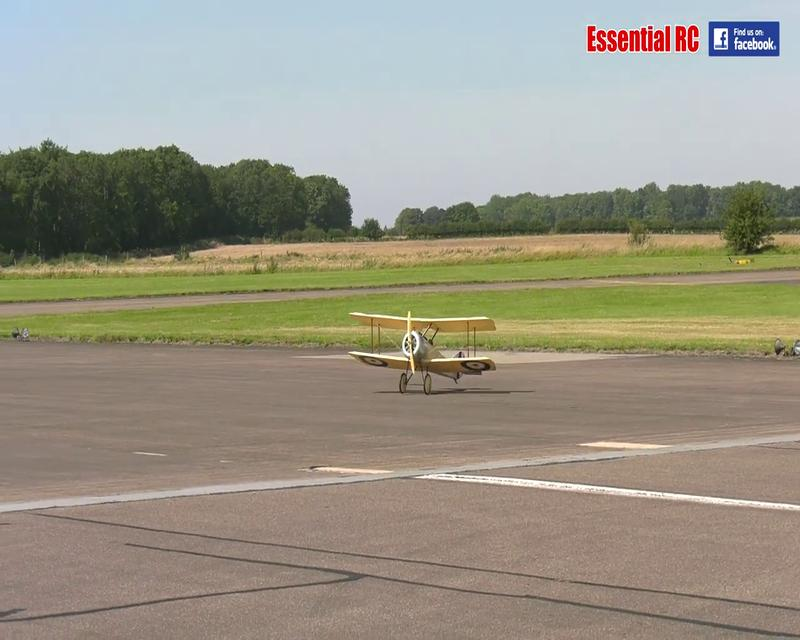UAV: (346, 308, 498, 396), (585, 23, 700, 53)
